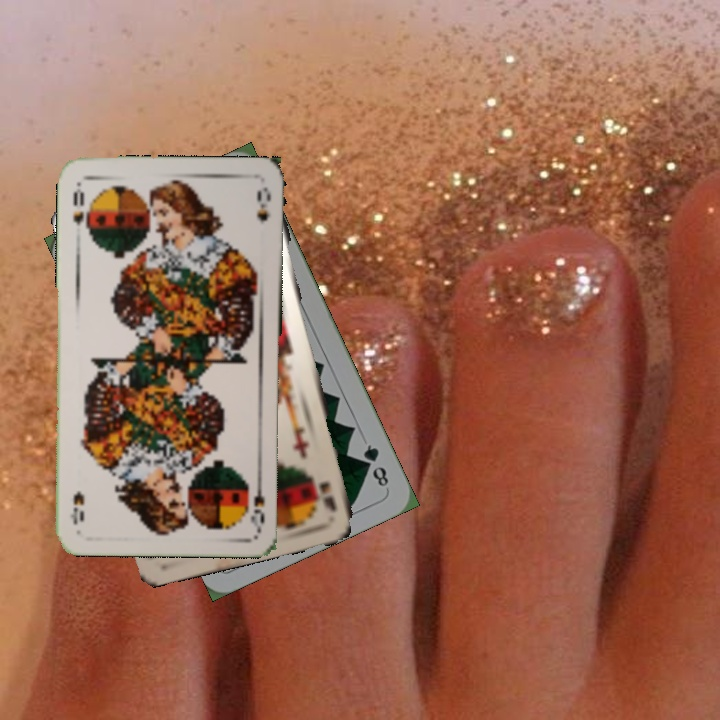G8: (359, 440, 392, 490)
SK: (314, 476, 340, 515)
SO: (246, 472, 267, 531), (68, 180, 91, 231)
